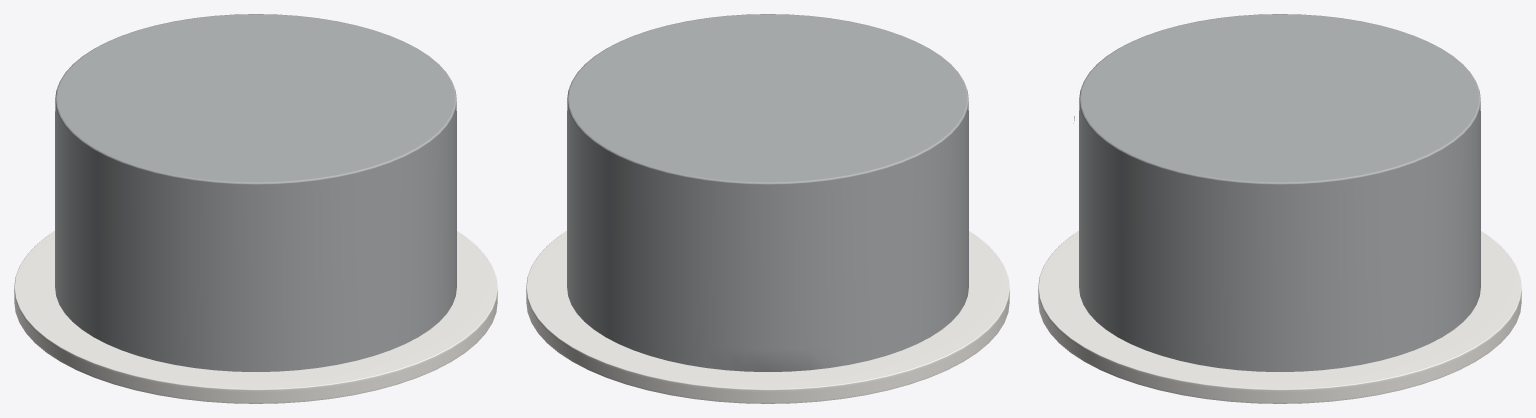
3 renders of one model, left to right at view 1: azimuth 30°, elevation 25°; view 2: azimuth 150°, elevation 25°; view 3: azimuth 270°, elevation 25°, orthographic.
Parts seen in each view (by area): view 1: pCylinder5, pCylinder29; view 2: pCylinder5, pCylinder29; view 3: pCylinder5, pCylinder29.
Boxes of the visible parts, box(x1,y1,x2,y2) form: pCylinder5: box(55, 14, 456, 371); pCylinder29: box(14, 231, 497, 403); pCylinder5: box(567, 14, 968, 371); pCylinder29: box(526, 231, 1009, 403); pCylinder5: box(1079, 14, 1480, 371); pCylinder29: box(1038, 231, 1521, 403).
Size of the model in its own units: 0.024 by 0.0111 by 0.024.
3 materials, 2 textured.
